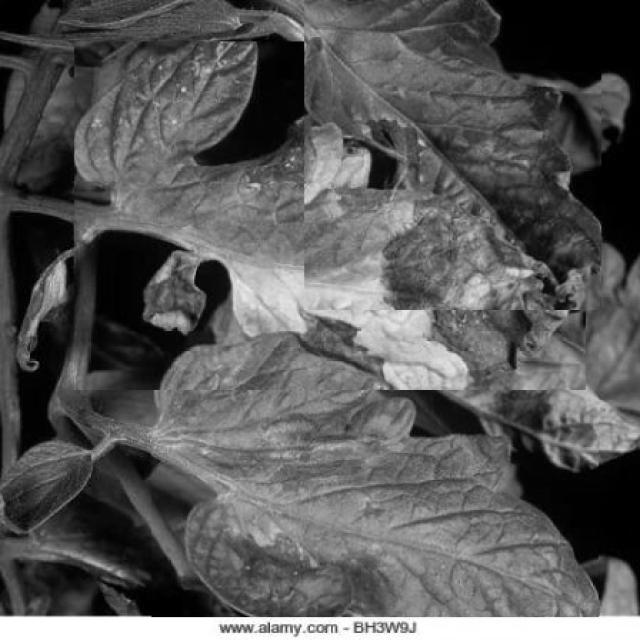Late Blight: (75, 41, 586, 390), (152, 326, 598, 617), (304, 0, 602, 310)
